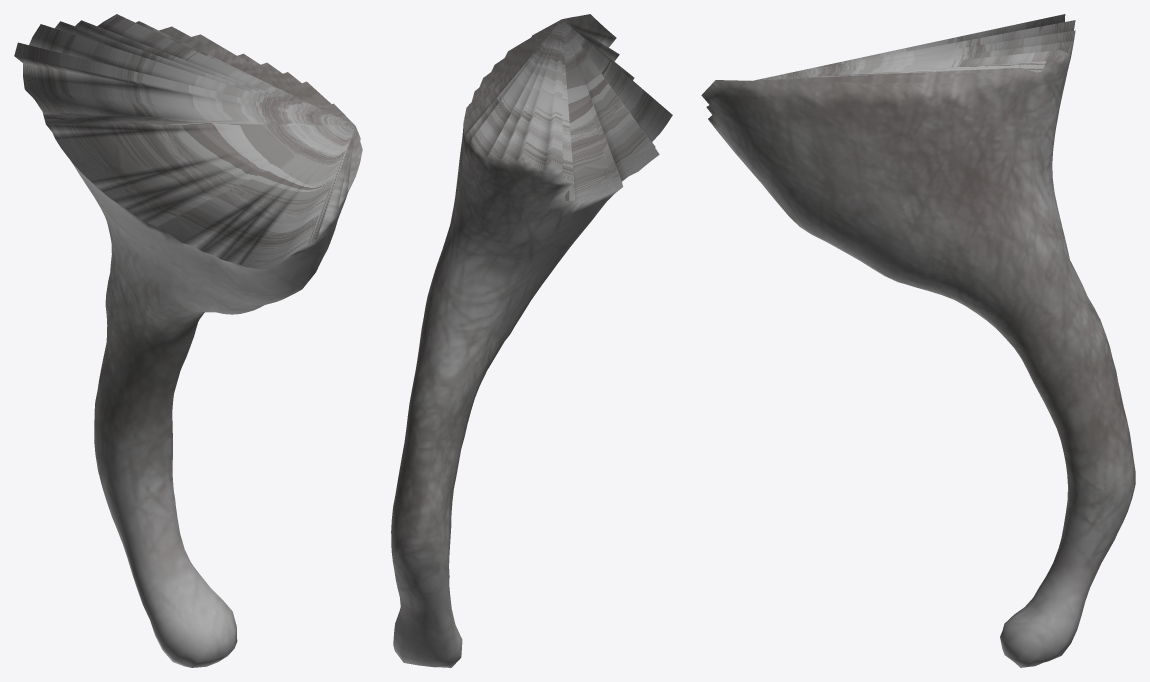
File: pataT_left.obj
3 renders of one model, left to right at view 1: azimuth 30°, elevation 25°; view 2: azimuth 150°, elevation 25°; view 3: azimuth 270°, elevation 25°, orthographic. The views are drawn at different scales.
Visible parts, largest first — view 1: pataT_left; view 2: pataT_left; view 3: pataT_left.
Boxes of the visible parts, box(x1,y1,x2,y2) form: pataT_left: box(14, 14, 362, 667); pataT_left: box(391, 14, 672, 667); pataT_left: box(701, 14, 1135, 667).
Bounding box in the file's own units: 1.19 × 3.58 × 2.42.
Materials: 1 (1 with a texture image).
